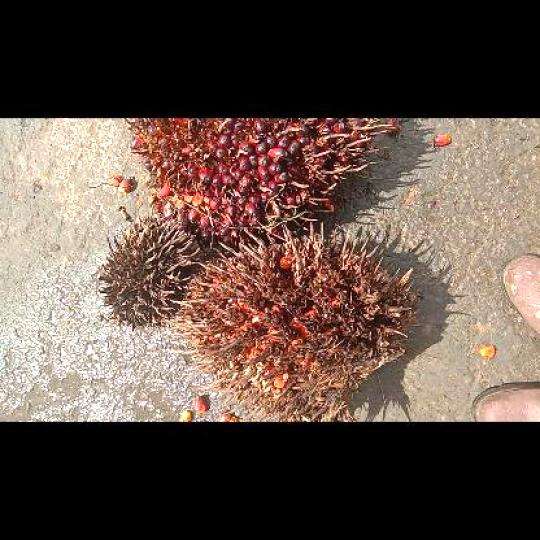masak: (126, 118, 392, 244)
terlalu masak: (168, 223, 417, 421)
